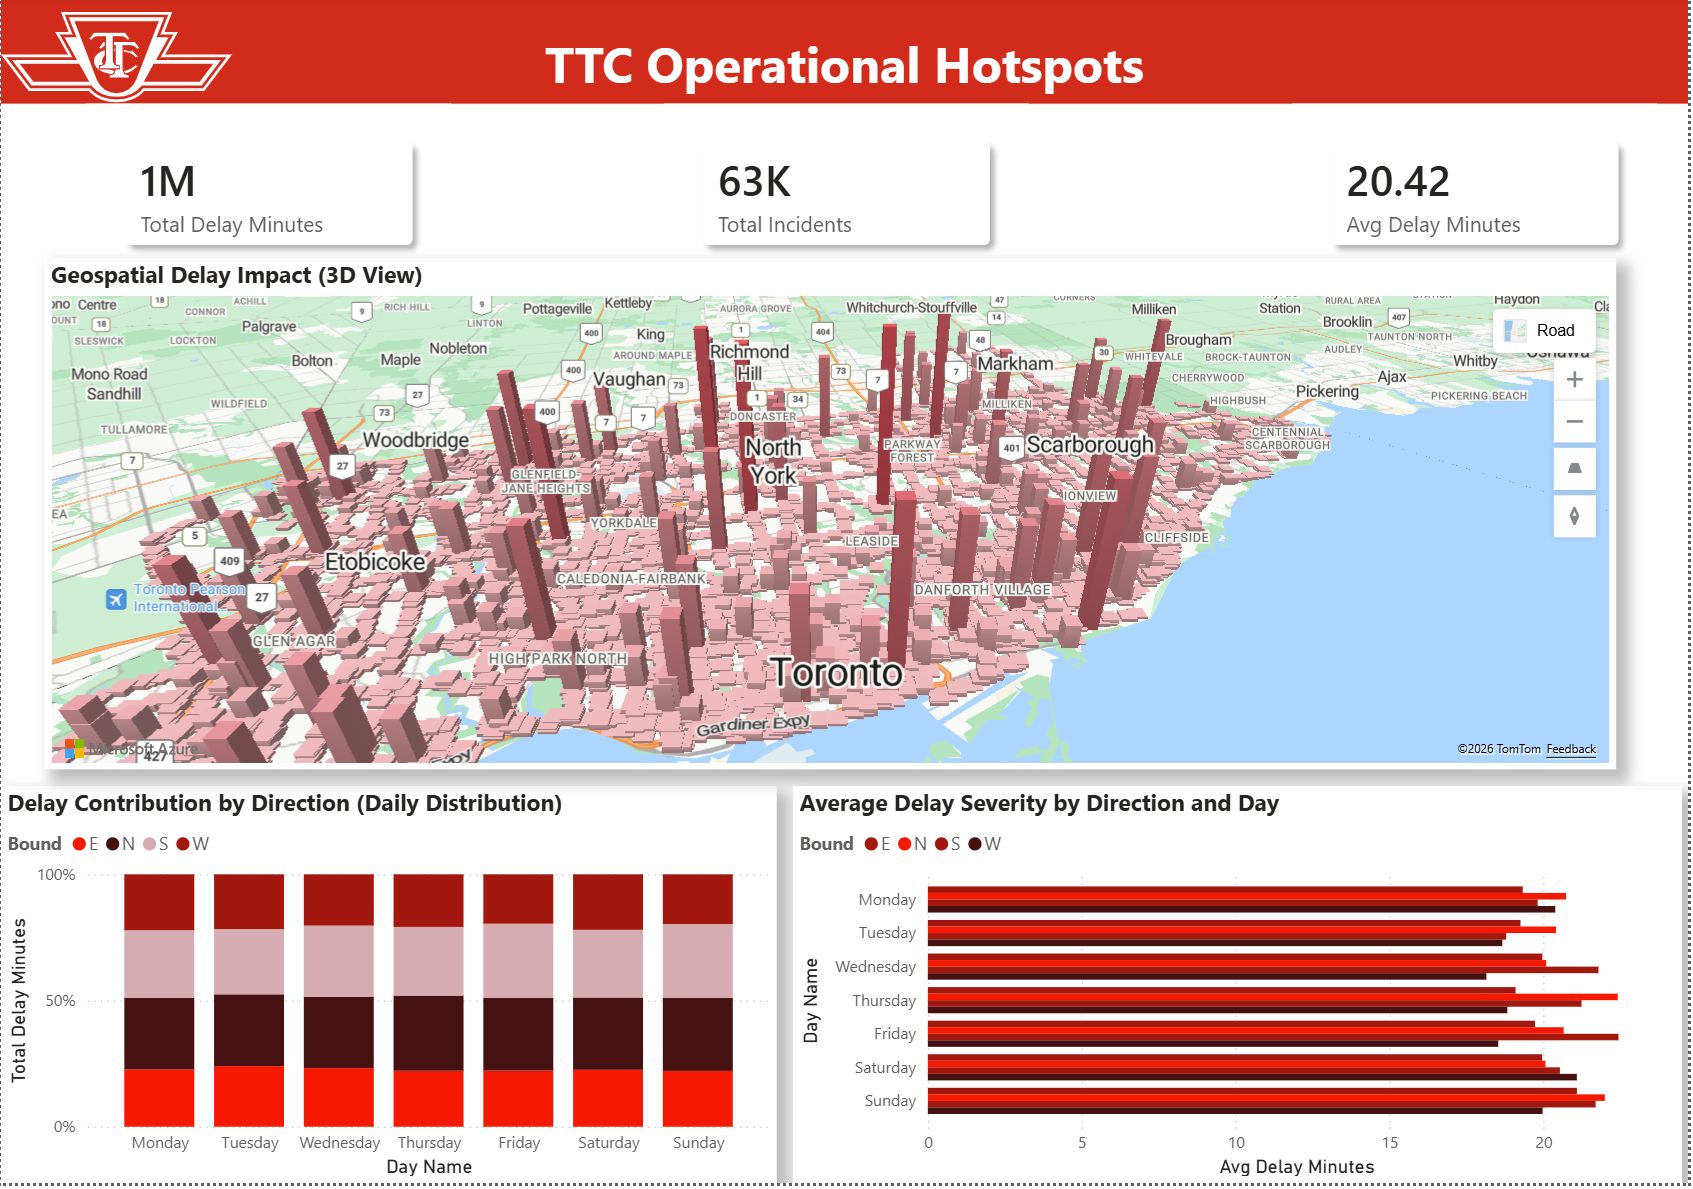

What the dashboard file says about the page in this screenshot:
{"tool":"powerbi","page":{"name":"TTC Operational Hotspots","canvas":[1280,900],"ordinal":2},"visuals":[{"type":"textbox","box":[0,2,1280.3,78.5],"z":0},{"type":"image","box":[0,0,175,91.5],"z":1000},{"type":"cardVisual","fields":{"Data":["_Measures.Total Delay Minutes"]},"box":[64.9,81.1,276.9,136.7],"z":2000},{"type":"cardVisual","fields":{"Data":["_Measures.Total Incidents"]},"box":[502.9,81.1,276.9,136.7],"z":3000},{"type":"cardVisual","fields":{"Data":["_Measures.Avg Delay Minutes"]},"box":[980.3,81.1,276.9,136.7],"z":4000},{"type":"hundredPercentStackedColumnChart","title":"Delay Contribution by Direction (Daily Distribution)","fields":{"Category":["DimDate.Day Name"],"Y":["_Measures.Total Delay Minutes"],"Series":["FactDelays.Bound"]},"box":[0,599.1,588.6,301.3],"z":5000},{"type":"azureMap","title":"Geospatial Delay Impact (3D View)","fields":{"Y":["DimStops.stop_lat"],"X":["DimStops.stop_lon"],"Size":["_Measures.Avg Delay Minutes"]},"box":[32.4,198.1,1192.3,388.2],"z":6000},{"type":"clusteredBarChart","title":"Average Delay Severity by Direction and Day","fields":{"Y":["_Measures.Avg Delay Minutes"],"Series":["FactDelays.Bound"],"Category":["DimDate.Day Name"]},"box":[601.4,599.1,674.4,301.3],"z":7000}]}

Visuals, with their boxes in screenshot pixels (x1, y1, x2, y2), scaled from the page's 1280x900 canvas onto the 1693x1189 screenshot:
textbox: x1=0, y1=3, x2=1692, y2=106
image: x1=0, y1=0, x2=231, y2=121
cardVisual - _Measures.Total Delay Minutes: x1=86, y1=107, x2=452, y2=288
cardVisual - _Measures.Total Incidents: x1=665, y1=107, x2=1031, y2=288
cardVisual - _Measures.Avg Delay Minutes: x1=1297, y1=107, x2=1663, y2=288
"Delay Contribution by Direction (Daily Distribution)" hundredPercentStackedColumnChart: x1=0, y1=791, x2=779, y2=1188
"Geospatial Delay Impact (3D View)" azureMap: x1=43, y1=262, x2=1620, y2=775
"Average Delay Severity by Direction and Day" clusteredBarChart: x1=795, y1=791, x2=1687, y2=1188
